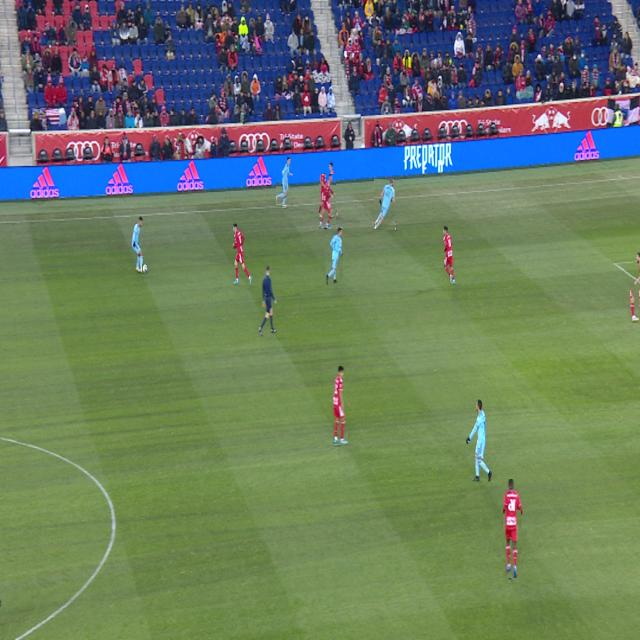football: (143, 265, 147, 273)
player: (466, 399, 492, 481), (504, 480, 521, 578), (233, 224, 252, 285), (333, 367, 348, 444), (375, 178, 395, 230), (326, 228, 343, 285), (319, 174, 336, 229), (276, 157, 293, 207), (131, 217, 145, 273), (443, 226, 456, 284), (329, 163, 338, 217), (631, 288, 639, 321), (634, 252, 640, 285), (322, 215, 325, 218)
referee: (259, 266, 277, 335)
